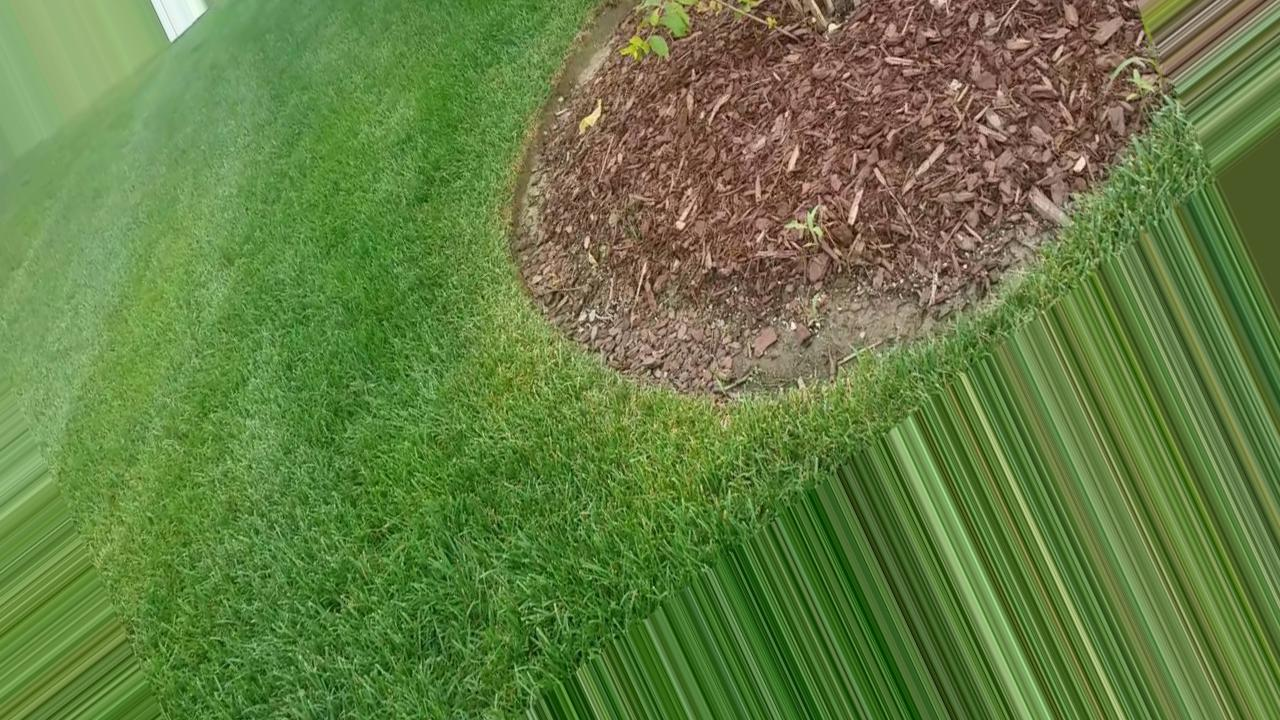patch: (585, 64, 979, 261), (1013, 24, 1123, 139)
